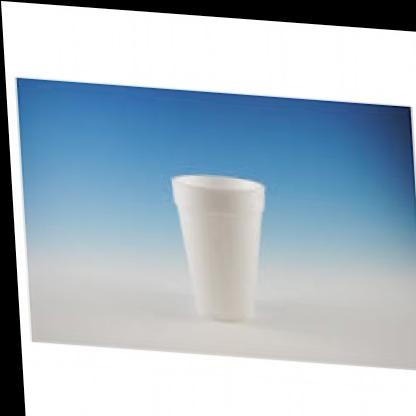trash: (172, 175, 264, 319)
